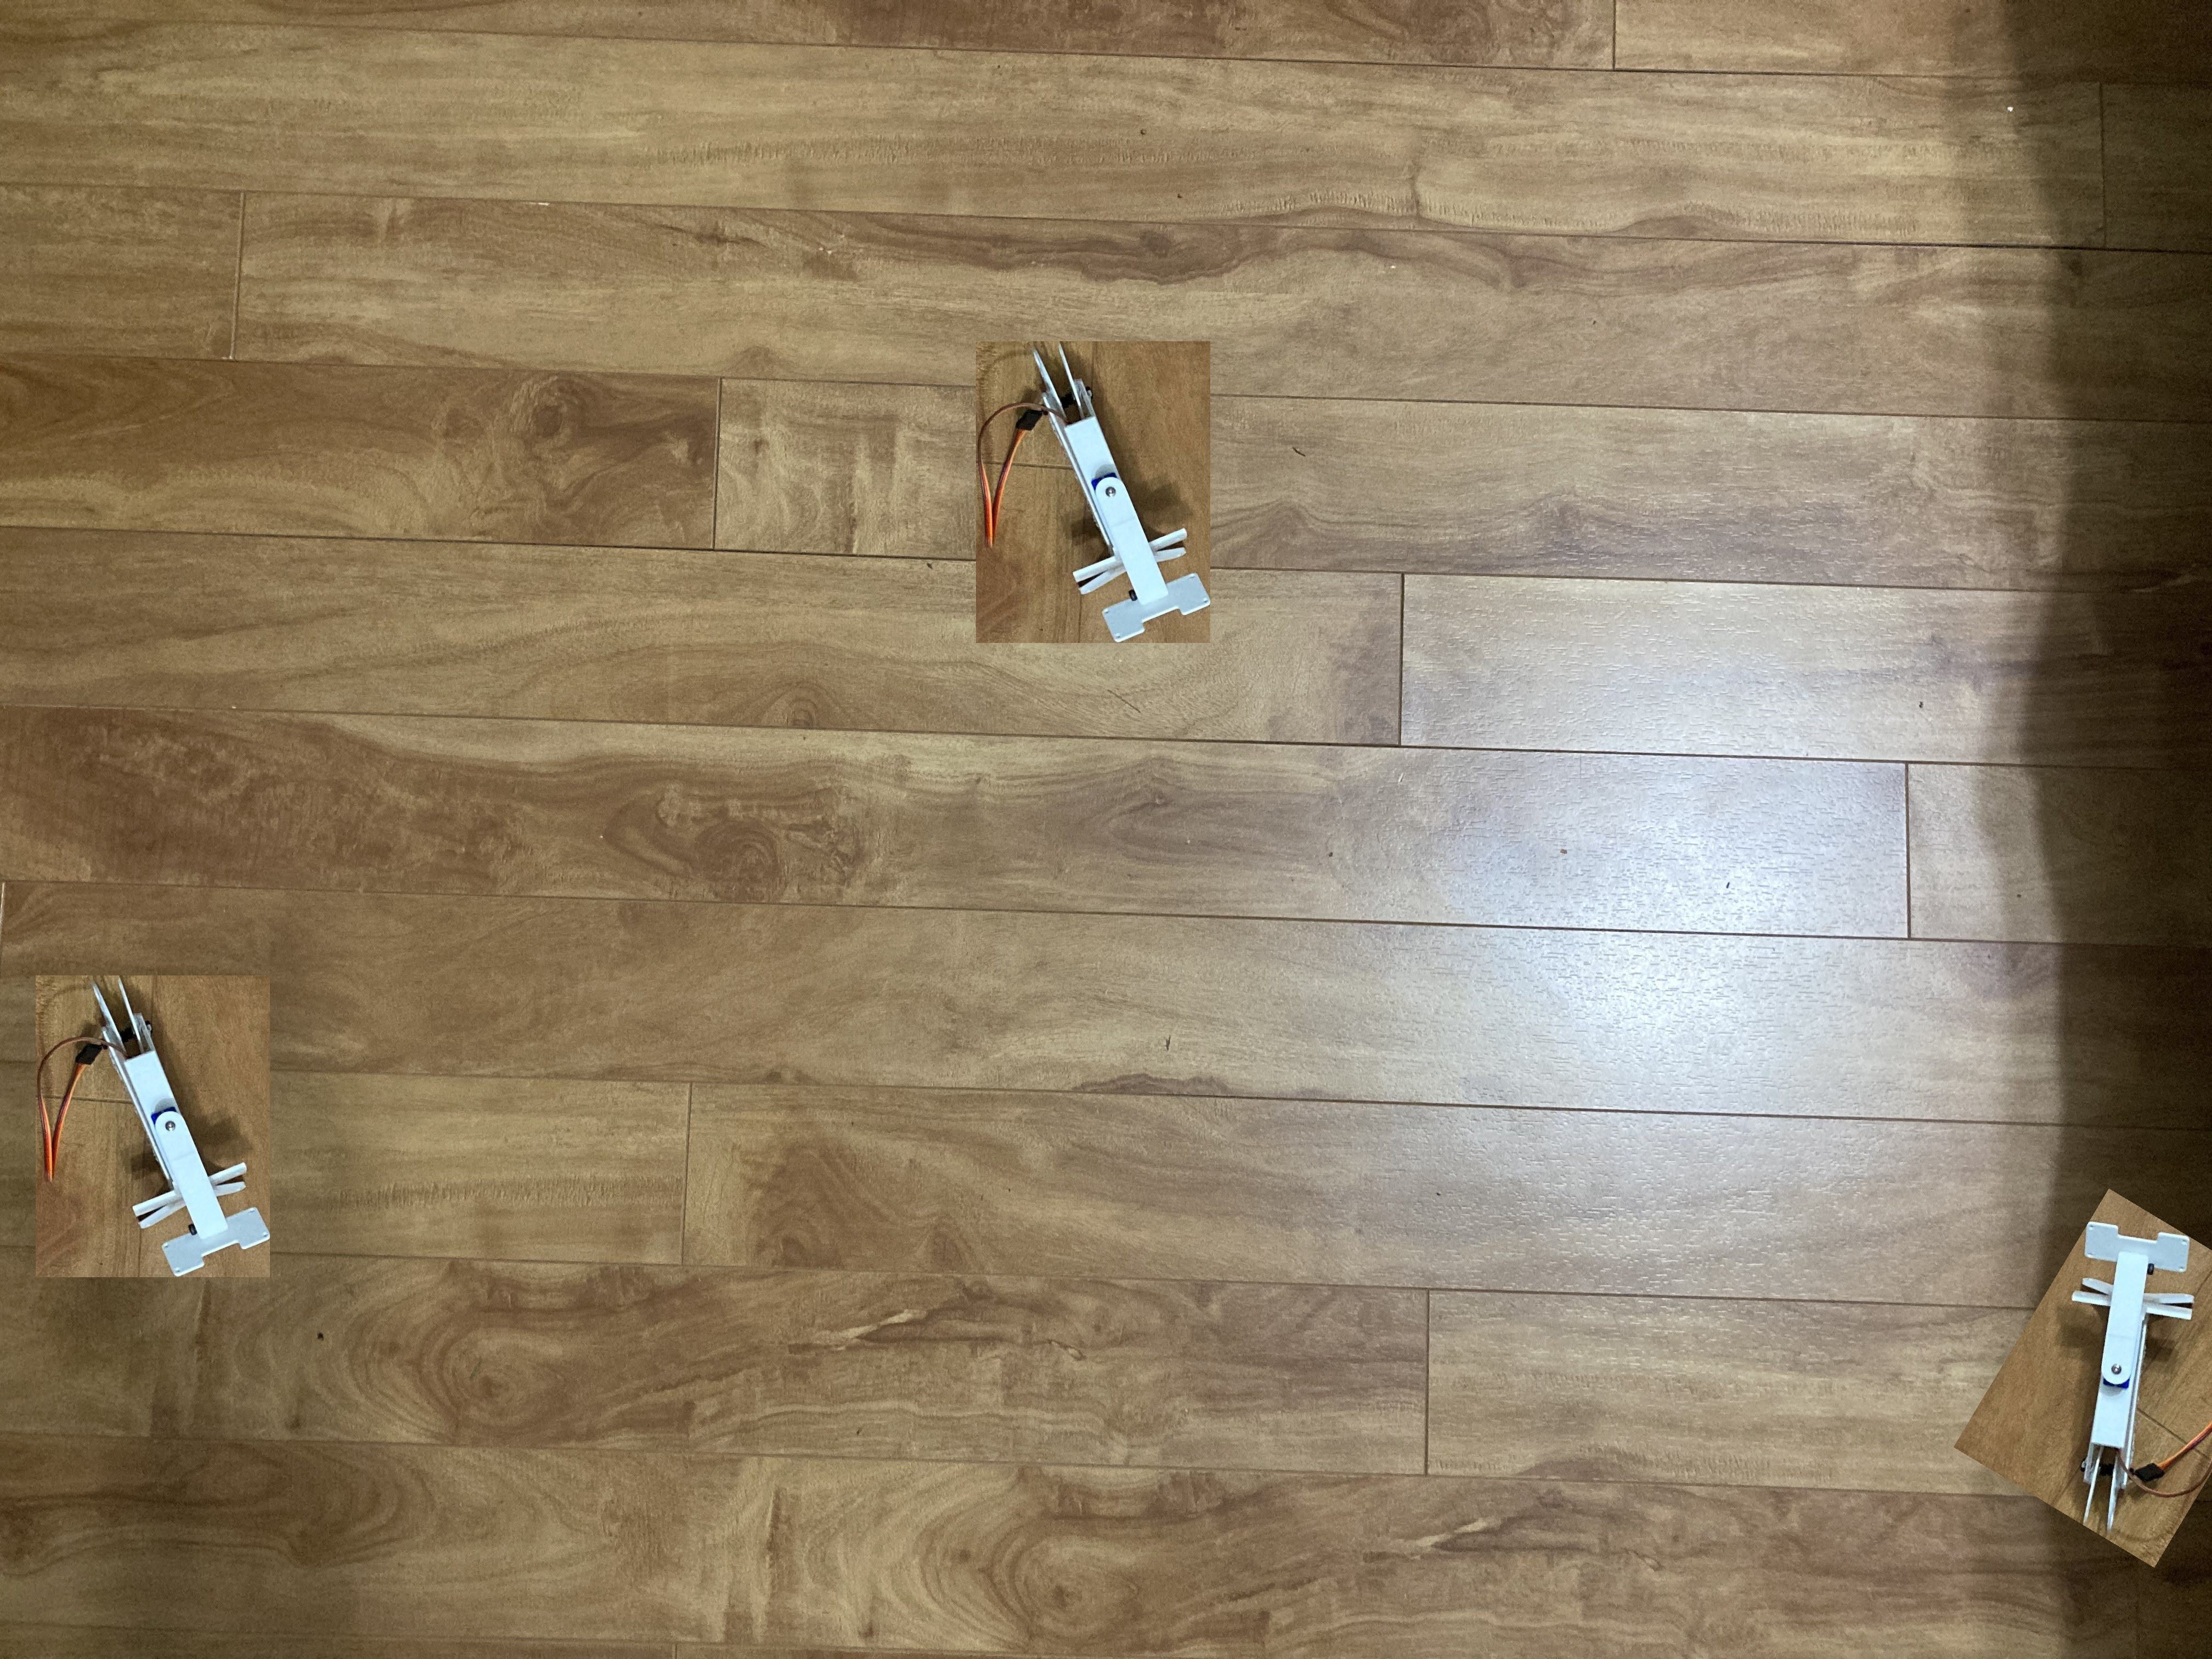robot: (38, 971, 275, 1277), (993, 338, 1212, 645), (2050, 1185, 2212, 1551)
